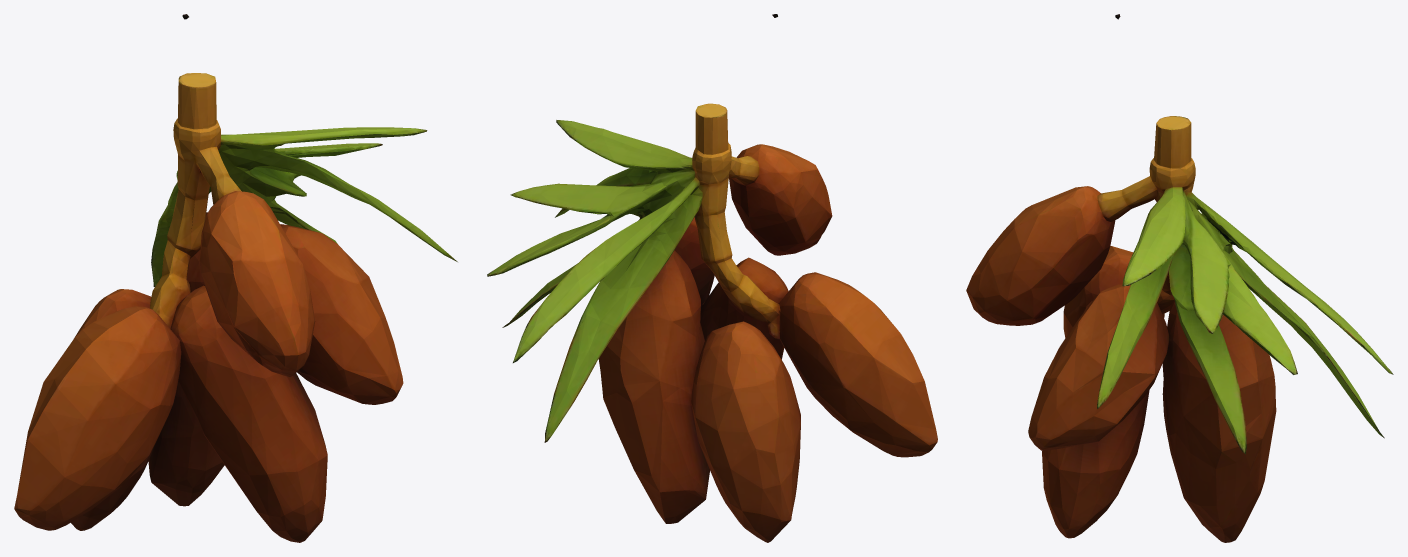
The model's file is date_cluster.glb.
3 views of the same model, side by side, from view 1: azimuth 30°, elevation 25°; view 2: azimuth 150°, elevation 25°; view 3: azimuth 270°, elevation 25° (orthographic). The views are drawn at different scales.
Parts seen in each view (by area): view 1: world; view 2: world; view 3: world.
Part boxes in pixels (x1,y1,x2,y2): world: (14, 14, 457, 542); world: (487, 14, 937, 542); world: (966, 14, 1393, 542).
Bounding box in the file's own units: 0.8367 × 0.9977 × 0.7708.
1 material, 1 textured.
